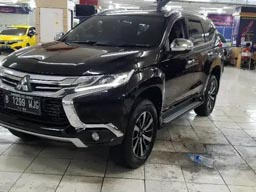plat: (3, 91, 41, 113)
